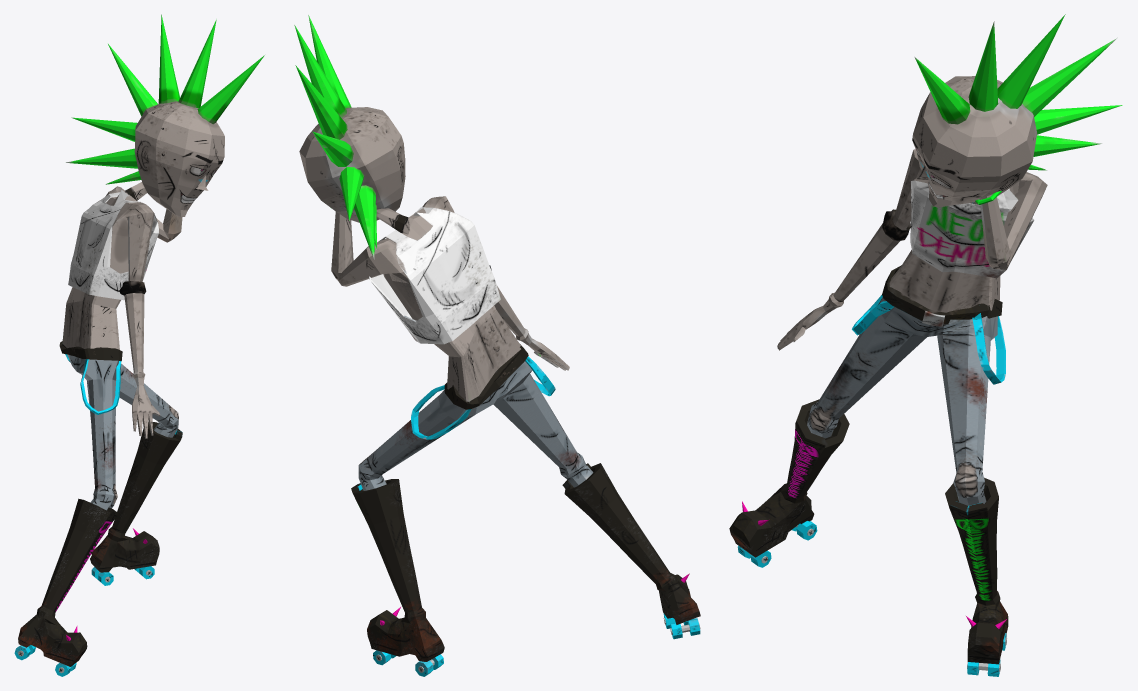
The model's file is punkAnimation_000075.obj.
3 renders of one model, left to right at view 1: azimuth 30°, elevation 25°; view 2: azimuth 150°, elevation 25°; view 3: azimuth 270°, elevation 25°, orthographic. The views are drawn at different scales.
Visible parts, largest first — view 1: Cube.004_Cube.003; view 2: Cube.004_Cube.003; view 3: Cube.004_Cube.003.
Boxes of the visible parts, x1,y1,x2,y2 form: Cube.004_Cube.003: (14,14,264,676); Cube.004_Cube.003: (294,15,700,676); Cube.004_Cube.003: (729,14,1122,676).
Size of the model in its own units: 3.8 by 6.57 by 3.34.
